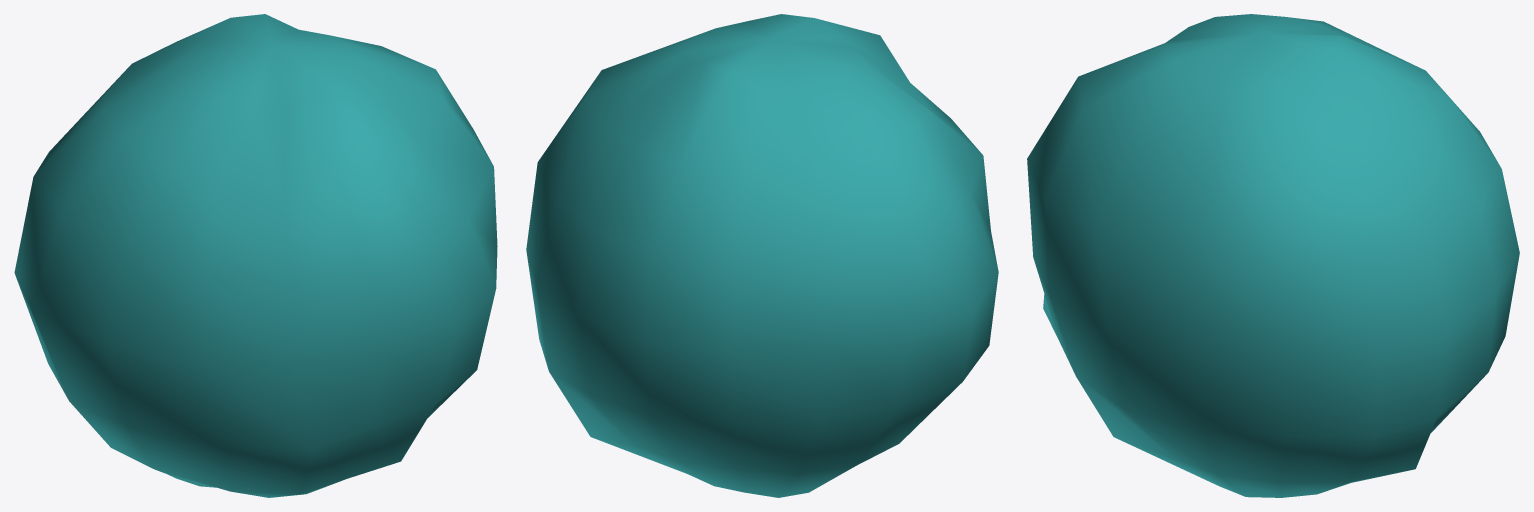
Rendered from SnowBall.fbx.
3 views of the same model, side by side, from view 1: azimuth 30°, elevation 25°; view 2: azimuth 150°, elevation 25°; view 3: azimuth 270°, elevation 25° (orthographic). The views are drawn at different scales.
Visible parts, largest first — view 1: Sphere001; view 2: Sphere001; view 3: Sphere001.
Part boxes in pixels (x1=…): Sphere001: x1=14, y1=14, x2=497, y2=497; Sphere001: x1=526, y1=14, x2=998, y2=497; Sphere001: x1=1027, y1=14, x2=1519, y2=497.
Bounding box in the file's own units: 33.31 × 32.15 × 32.63.
